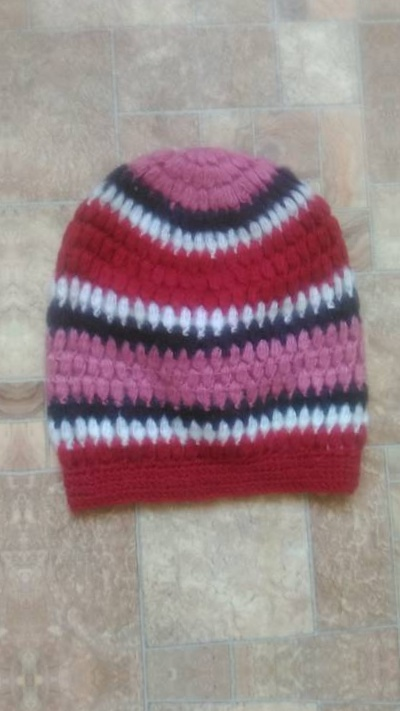Hat: (17, 117, 400, 520), (0, 134, 11, 537), (397, 101, 400, 504)
